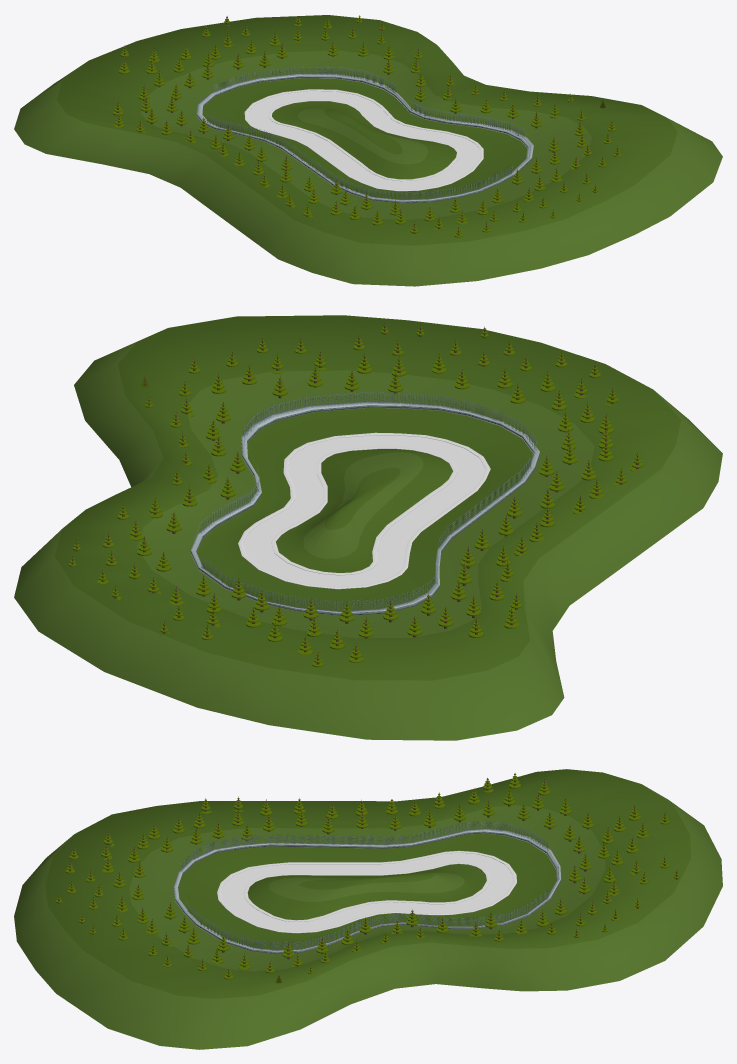
The model's file is Track.fbx.
The picture shows the model from 3 angles, top to bottom: view 1: azimuth 30°, elevation 25°; view 2: azimuth 150°, elevation 25°; view 3: azimuth 270°, elevation 25°; orthographic projection. The views are drawn at different scales.
Parts seen in each view (by area): view 1: OuterGrass, Trees, Track, Walls, InnerGrass; view 2: OuterGrass, Trees, Track, InnerGrass, Walls; view 3: OuterGrass, Trees, Track, Walls, InnerGrass.
Boxes of the visible parts, left/top/right/bottom form: OuterGrass: left=14, top=15, right=722, bottom=286; Trees: left=112, top=15, right=621, bottom=237; Track: left=244, top=89, right=483, bottom=191; Walls: left=196, top=66, right=533, bottom=203; InnerGrass: left=272, top=101, right=456, bottom=179; OuterGrass: left=14, top=315, right=722, bottom=740; Trees: left=68, top=322, right=643, bottom=667; Track: left=238, top=432, right=490, bottom=589; InnerGrass: left=276, top=449, right=452, bottom=572; Walls: left=190, top=392, right=539, bottom=615; OuterGrass: left=14, top=769, right=722, bottom=1049; Trees: left=56, top=773, right=679, bottom=983; Track: left=217, top=850, right=516, bottom=933; Walls: left=173, top=821, right=561, bottom=953; InnerGrass: left=247, top=864, right=486, bottom=920.
Size of the model in its own units: 22892 by 1704 by 24947.
